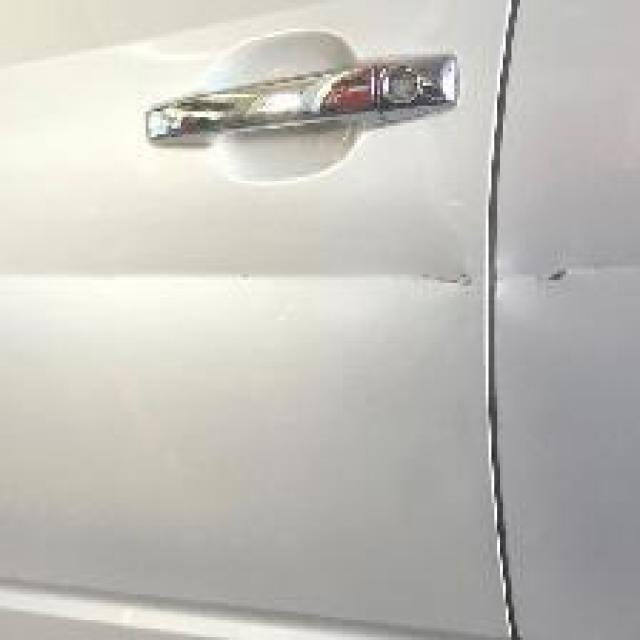damaged: (0, 257, 637, 303)
